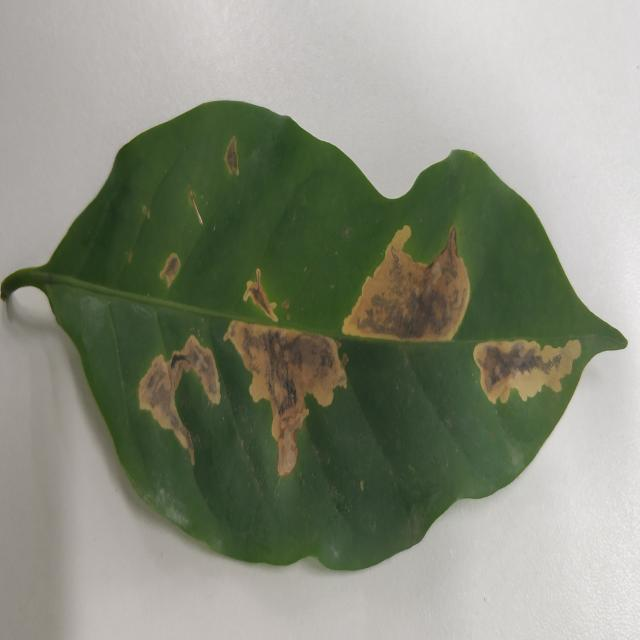Plaga-Minador: (0, 101, 627, 575)
